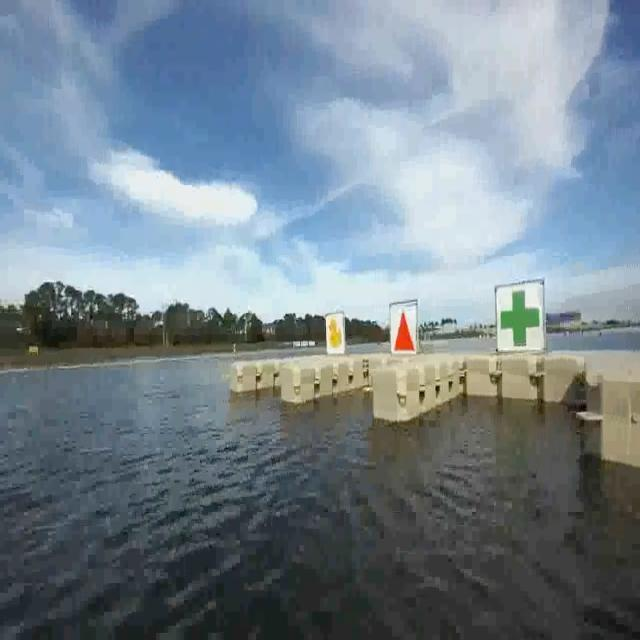blue-cross: (490, 286, 545, 359)
red-dot: (387, 298, 418, 357)
yellow-duck: (327, 314, 345, 356)
